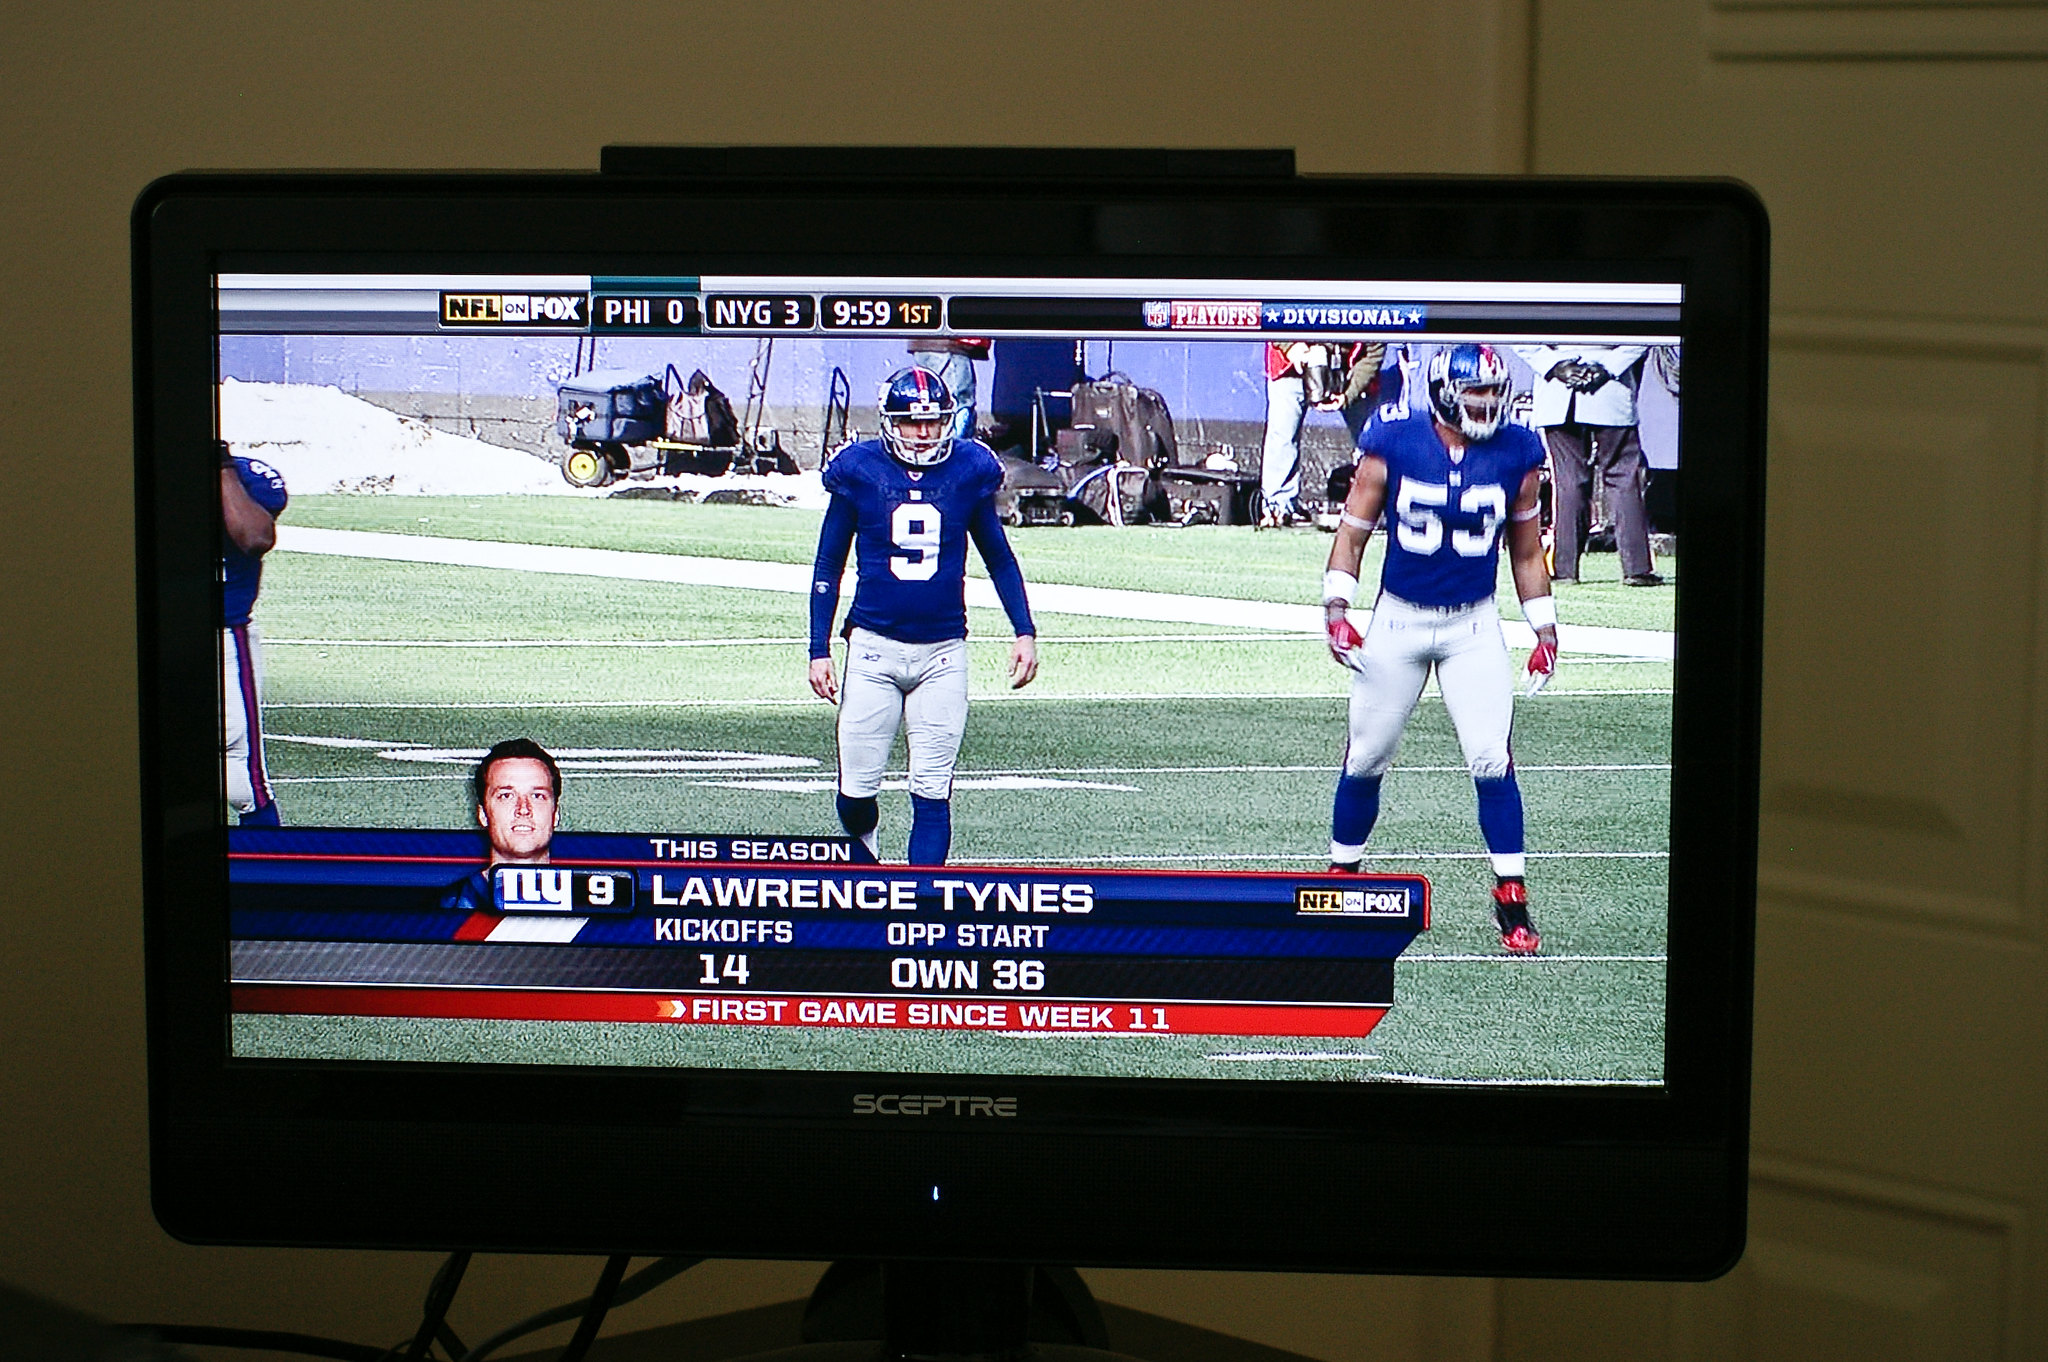tv monitor: (106, 155, 1683, 1301)
